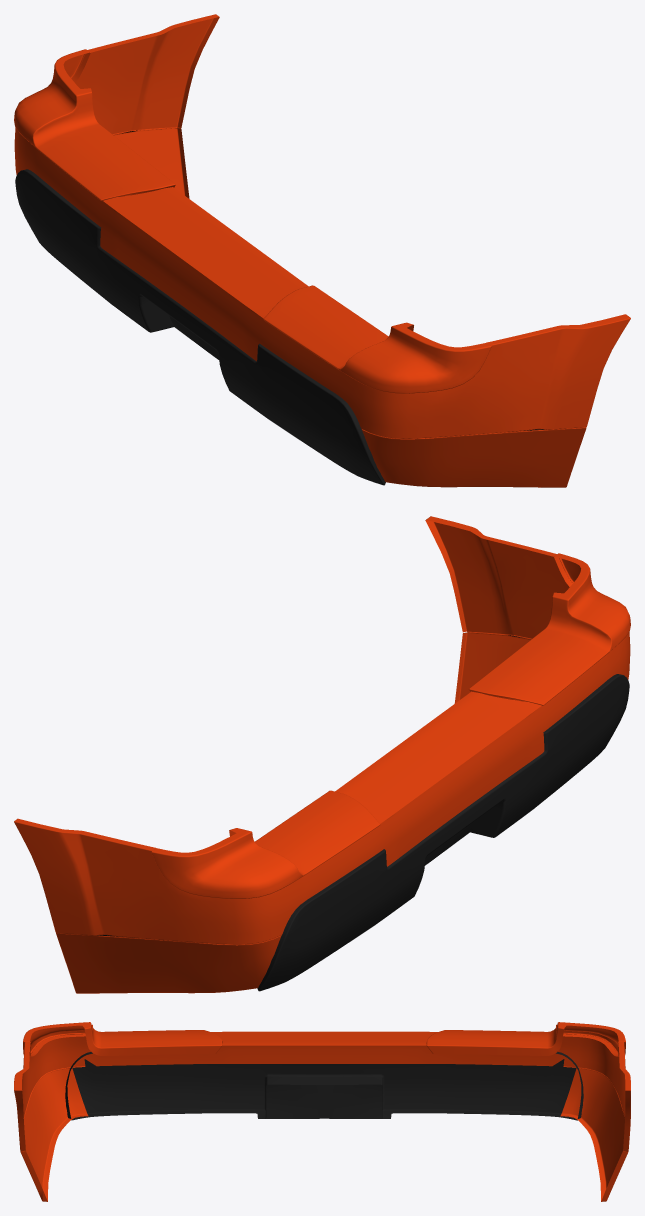
3 views of the same model, one above another, from view 1: azimuth 30°, elevation 25°; view 2: azimuth 150°, elevation 25°; view 3: azimuth 270°, elevation 25° (orthographic). The views are drawn at different scales.
Parts seen in each view (by area): view 1: U843_9A_561G_C_U843_9A_561G_C_1_DaS, U843_9A_561G_C_2_D_U843_9A_561G_C, U843_9A_561G_C_U843_9A_561G_C_1_DaS_E; view 2: U843_9A_561G_C_U843_9A_561G_C_1_DaS, U843_9A_561G_C_2_D_U843_9A_561G_C, U843_9A_561G_C_U843_9A_561G_C_1_DaS_E; view 3: U843_9A_561G_C_U843_9A_561G_C_1_DaS, U843_9A_561G_C_2_D_U843_9A_561G_C, U843_9A_561G_C_2_D_U843_9A_561G_C_E, U843_9A_561G_C_U843_9A_561G_C_1_DaS_E.
Boxes of the visible parts, x1,y1,x2,y2 form: U843_9A_561G_C_U843_9A_561G_C_1_DaS: [14, 14, 630, 487]; U843_9A_561G_C_2_D_U843_9A_561G_C: [15, 169, 385, 485]; U843_9A_561G_C_U843_9A_561G_C_1_DaS_E: [102, 18, 630, 487]; U843_9A_561G_C_U843_9A_561G_C_1_DaS: [14, 516, 630, 993]; U843_9A_561G_C_2_D_U843_9A_561G_C: [257, 674, 629, 991]; U843_9A_561G_C_U843_9A_561G_C_1_DaS_E: [14, 516, 541, 945]; U843_9A_561G_C_U843_9A_561G_C_1_DaS: [14, 1022, 630, 1201]; U843_9A_561G_C_2_D_U843_9A_561G_C: [65, 1051, 583, 1120]; U843_9A_561G_C_2_D_U843_9A_561G_C_E: [266, 1084, 382, 1118]; U843_9A_561G_C_U843_9A_561G_C_1_DaS_E: [14, 1042, 630, 1188].
Size of the model in its own units: 63.01 by 42.35 by 185.
